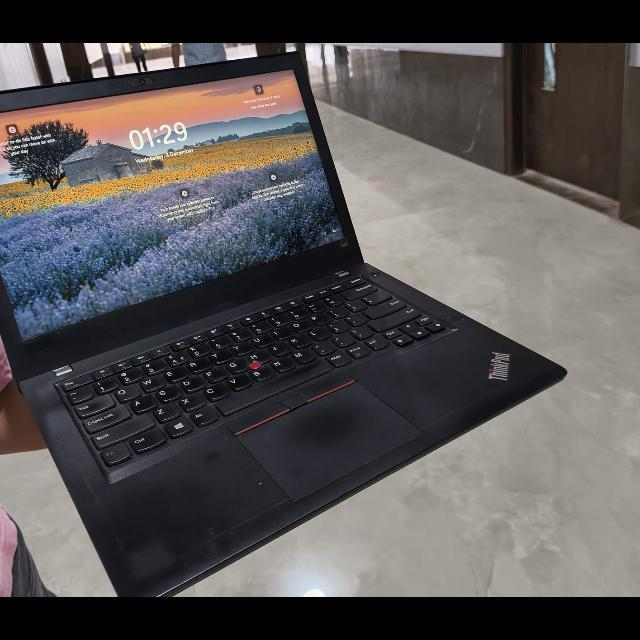laptop: (0, 62, 618, 598)
